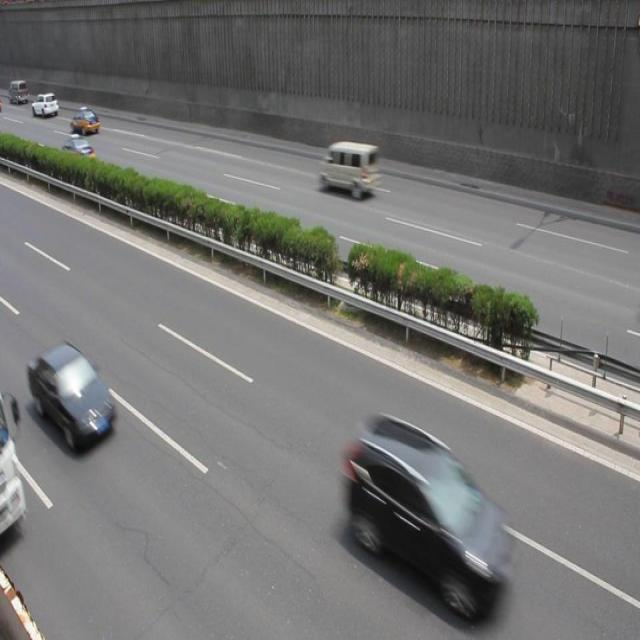car: (344, 412, 514, 608), (27, 341, 116, 448), (60, 134, 95, 172), (70, 106, 99, 138)
truck: (316, 143, 378, 200)
